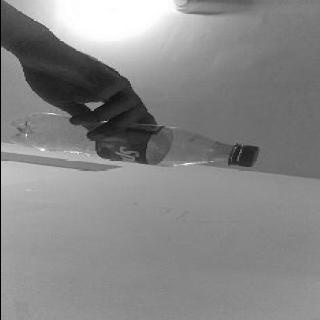plastic_bottles: (19, 120, 256, 172)
